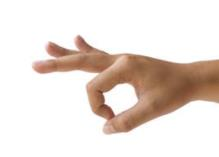left: (30, 33, 186, 137)
